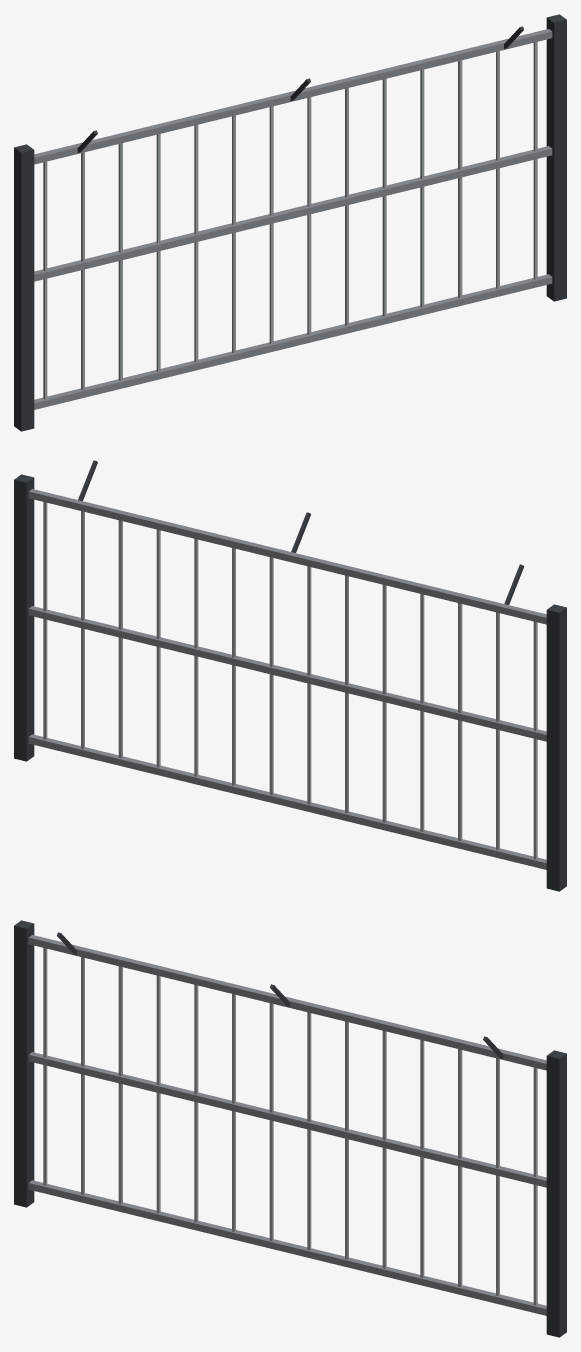
File: yard-fence.glb
3 views of the same model, one above another, from view 1: azimuth 30°, elevation 25°; view 2: azimuth 150°, elevation 25°; view 3: azimuth 330°, elevation 25° (orthographic).
Visible parts, largest first — view 1: panel; view 2: panel; view 3: panel.
Part boxes in pixels (x1,y1,x2,y2): panel: (14,14,566,431); panel: (14,460,566,891); panel: (14,920,566,1337).
Bounding box in the file's own units: 5.12 × 2.66 × 0.3706.
Materials: 1 (1 with a texture image).
